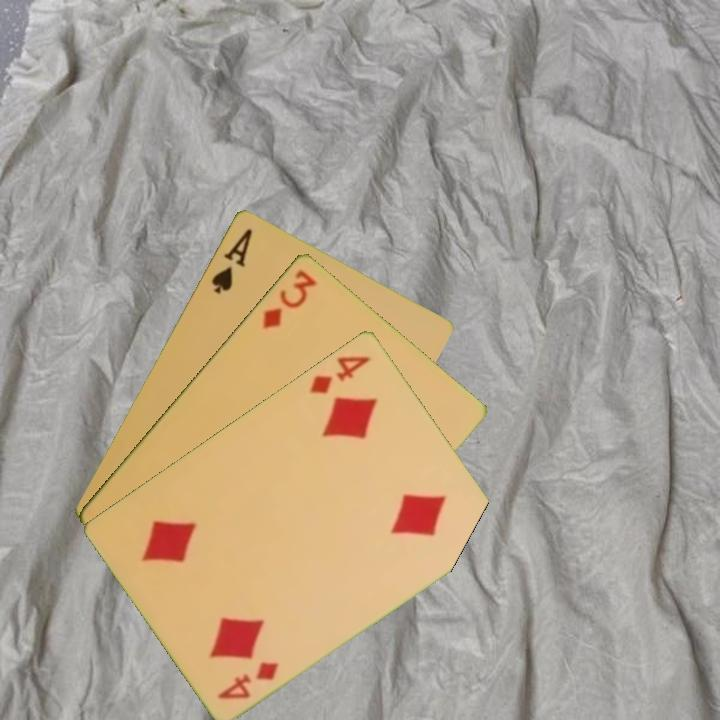3d: (259, 265, 320, 332)
4d: (305, 351, 374, 397), (214, 657, 282, 702)
As: (207, 224, 255, 296)
